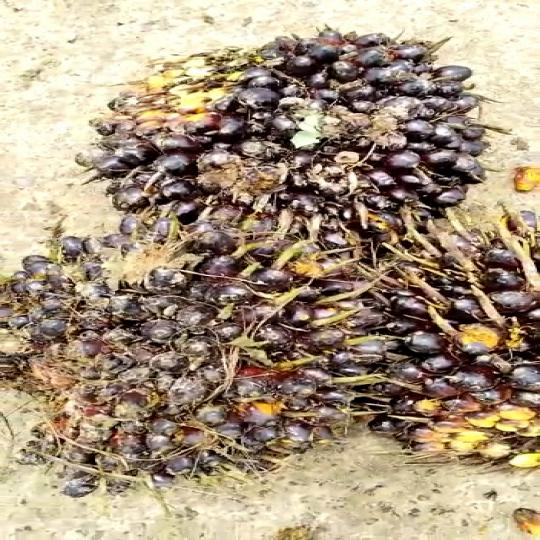mentah: (0, 226, 384, 491), (87, 21, 512, 245), (360, 209, 540, 475)
